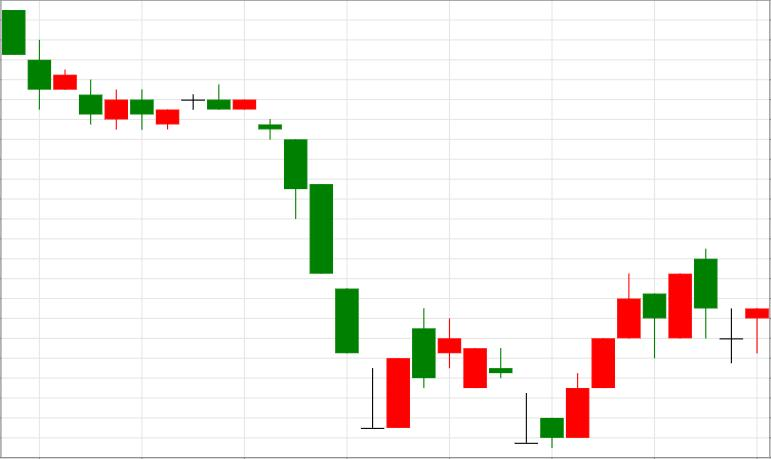three_white_soldiers_rise: (464, 273, 640, 448)
